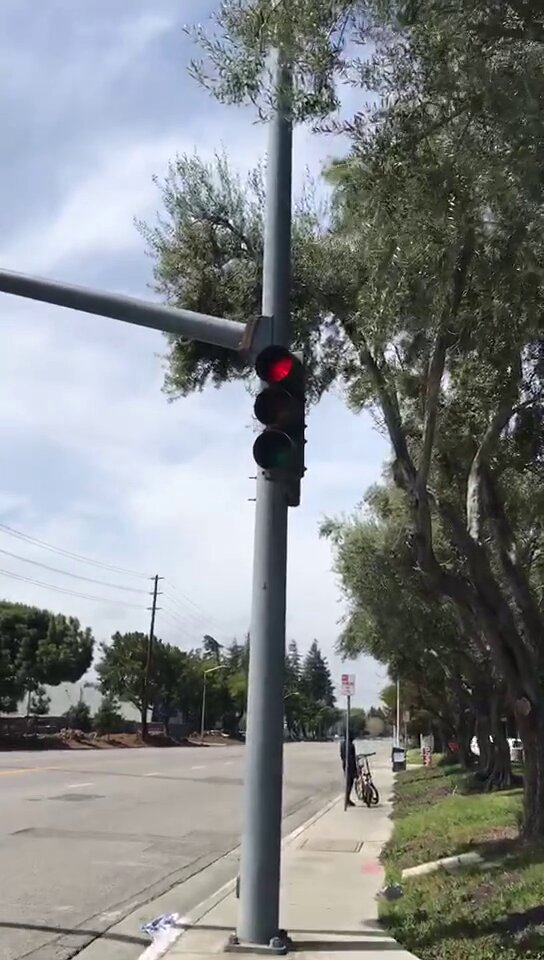red_light: (254, 347, 295, 473)
